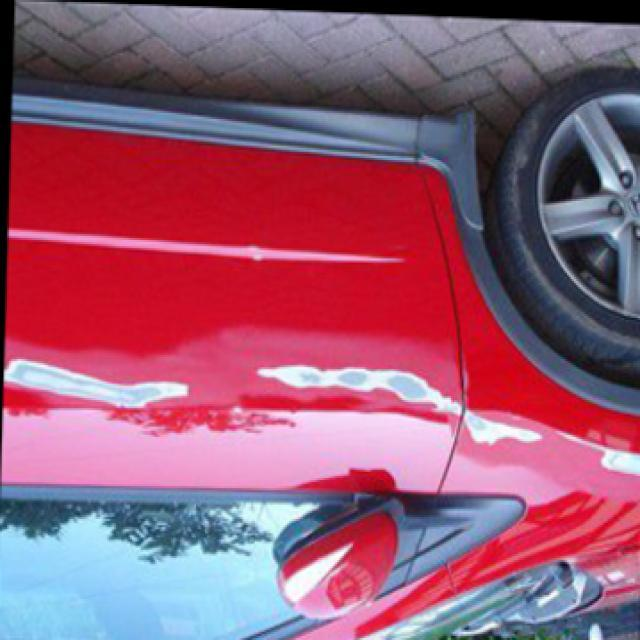scratch: (248, 352, 548, 460), (0, 349, 194, 419), (561, 420, 640, 494)
